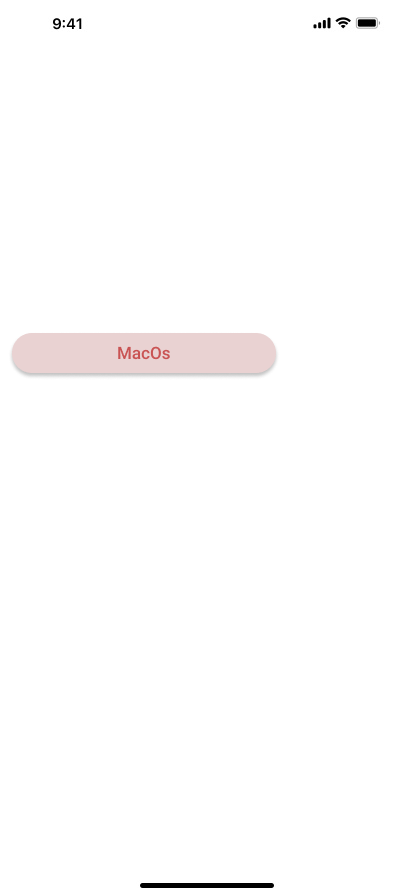Buttons: (8, 332, 284, 380)
Home Indicator: (0, 862, 414, 896)
Status Bar: (0, 0, 414, 44)
